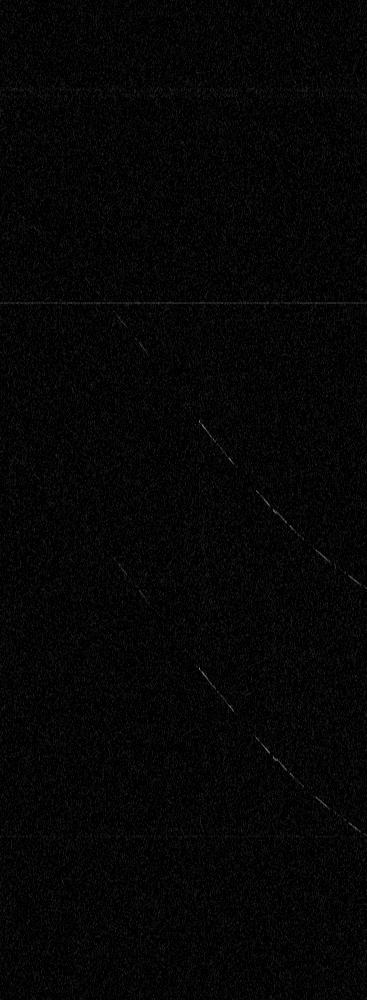signal: (0, 0, 366, 999)
